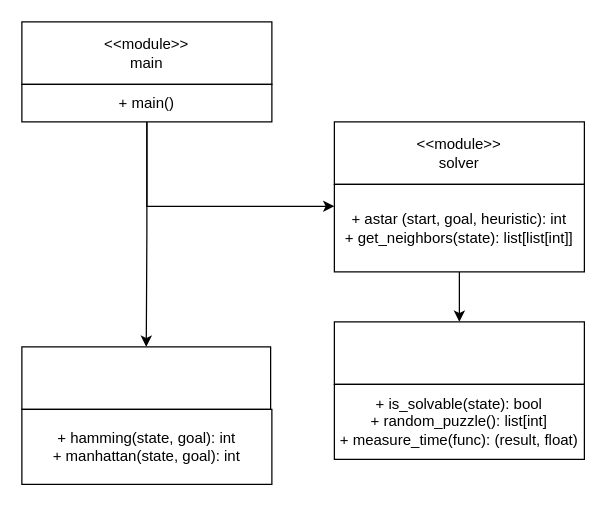
This 606x506 diagram has some shape labels left out. The centre of each missing label's shape, as x and y in pixels:
"<<module>> heuristics" belongs at (458,352).
"<<module>> utlis" belongs at (146,377).
